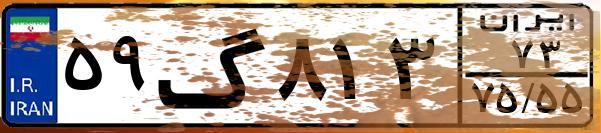1: (330, 28, 385, 110)
3: (385, 28, 445, 110), (537, 27, 568, 80)
5: (57, 26, 110, 100), (560, 70, 590, 125), (495, 70, 520, 125), (535, 70, 560, 125)
7: (508, 27, 537, 80), (470, 70, 495, 125)
8: (270, 28, 330, 110)
9: (110, 28, 156, 98)
گ: (156, 12, 270, 120)
